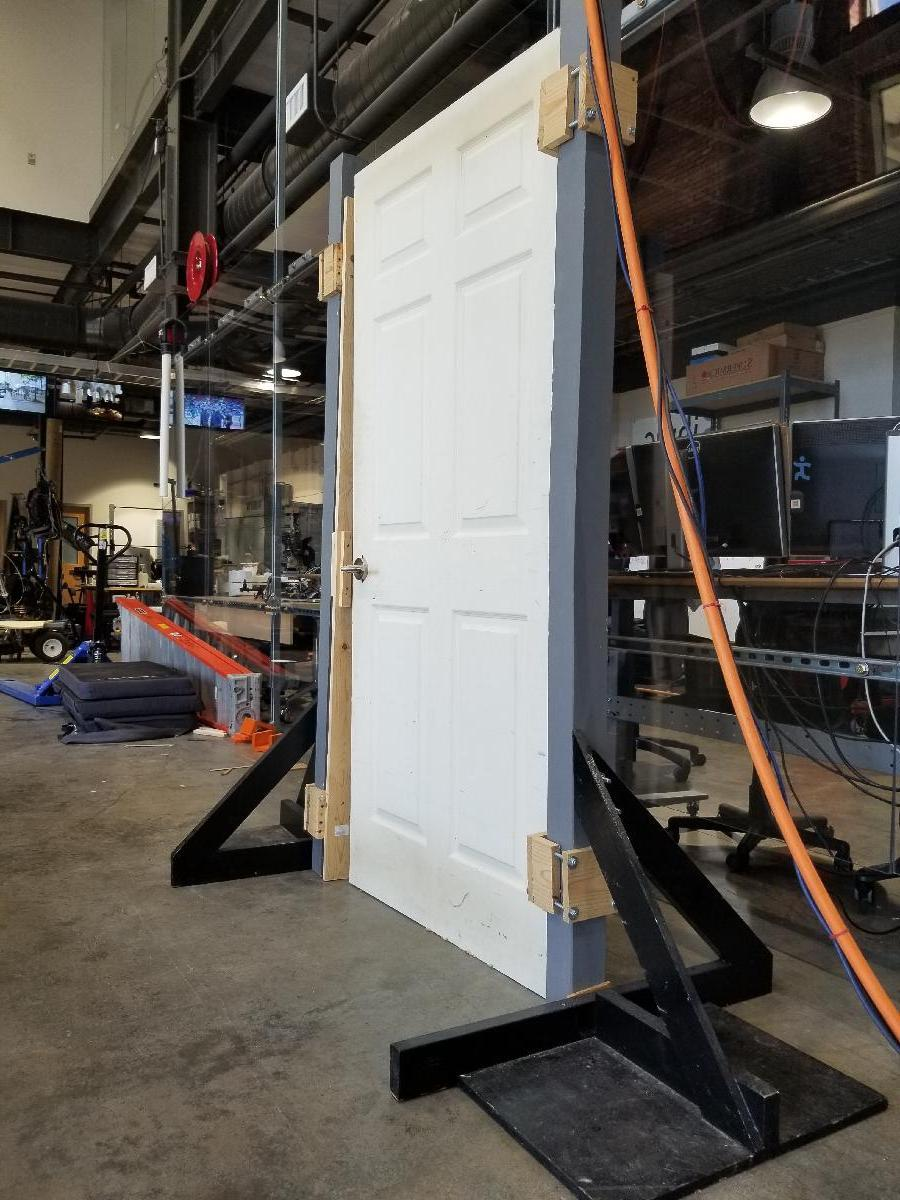door: (338, 78, 562, 925)
handle: (340, 550, 384, 582)
